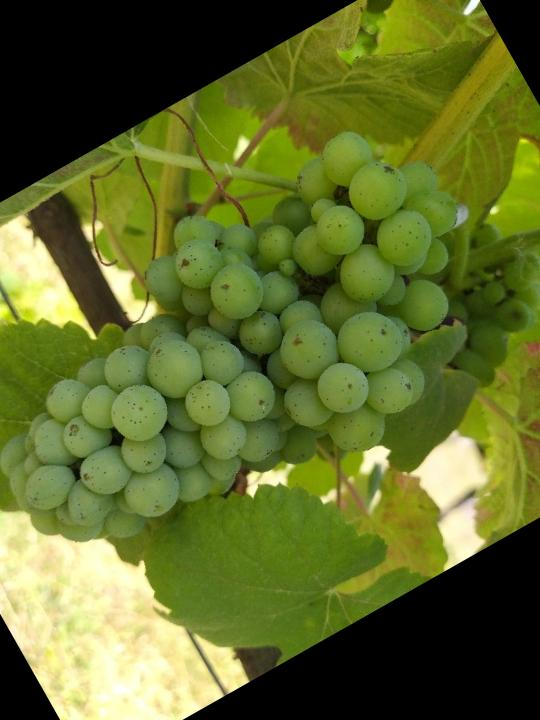grape: (0, 94, 540, 619)
